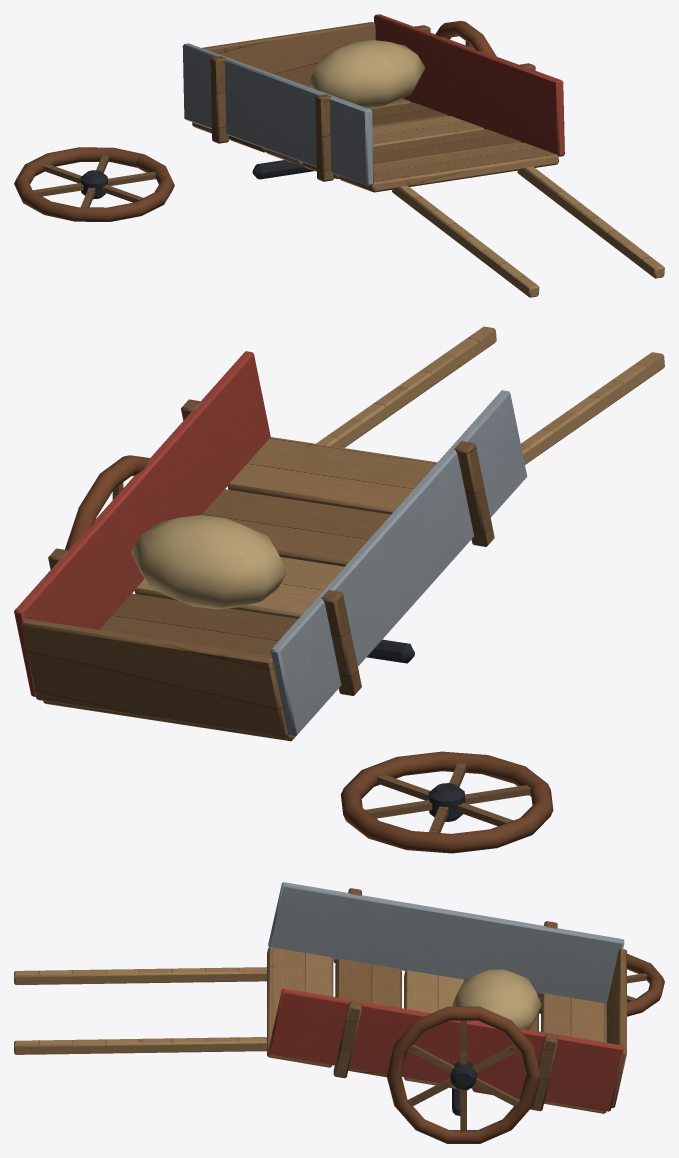
The model's file is cart_broken.glb.
3 renders of one model, top to bottom at view 1: azimuth 30°, elevation 25°; view 2: azimuth 150°, elevation 25°; view 3: azimuth 270°, elevation 25°, orthographic. The views are drawn at different scales.
Visible parts, largest first — view 1: cart_broken; view 2: cart_broken; view 3: cart_broken.
Part boxes in pixels (left/top/right/bottom): cart_broken: left=14, top=14, right=664, bottom=297; cart_broken: left=14, top=326, right=664, bottom=853; cart_broken: left=14, top=882, right=664, bottom=1143.
Bounding box in the file's own units: 3.9 × 1.68 × 5.88.
11 materials, 11 textured.
